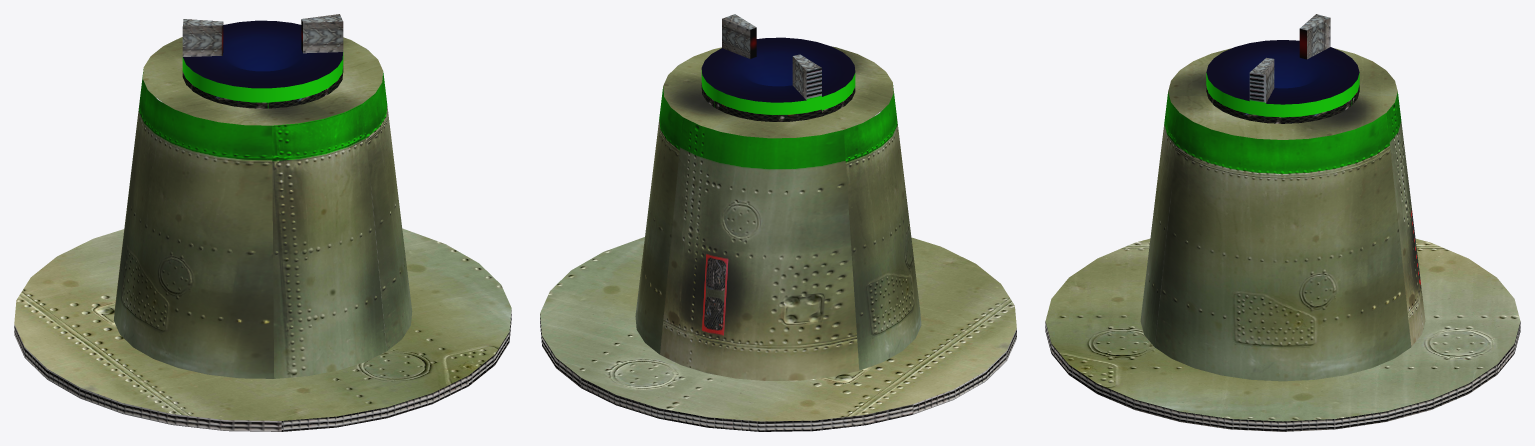
Rendered from towerB_Green.fbx.
3 renders of one model, left to right at view 1: azimuth 30°, elevation 25°; view 2: azimuth 150°, elevation 25°; view 3: azimuth 270°, elevation 25°, orthographic. The views are drawn at different scales.
Visible parts, largest first — view 1: pCylinder1; view 2: pCylinder1; view 3: pCylinder1.
Boxes of the visible parts, x1,y1,x2,y2 form: pCylinder1: [14, 14, 511, 431]; pCylinder1: [540, 14, 1016, 431]; pCylinder1: [1045, 14, 1520, 431].
Bounding box in the file's own units: 24.3 × 16.28 × 24.3.
Materials: 1 (1 with a texture image).
